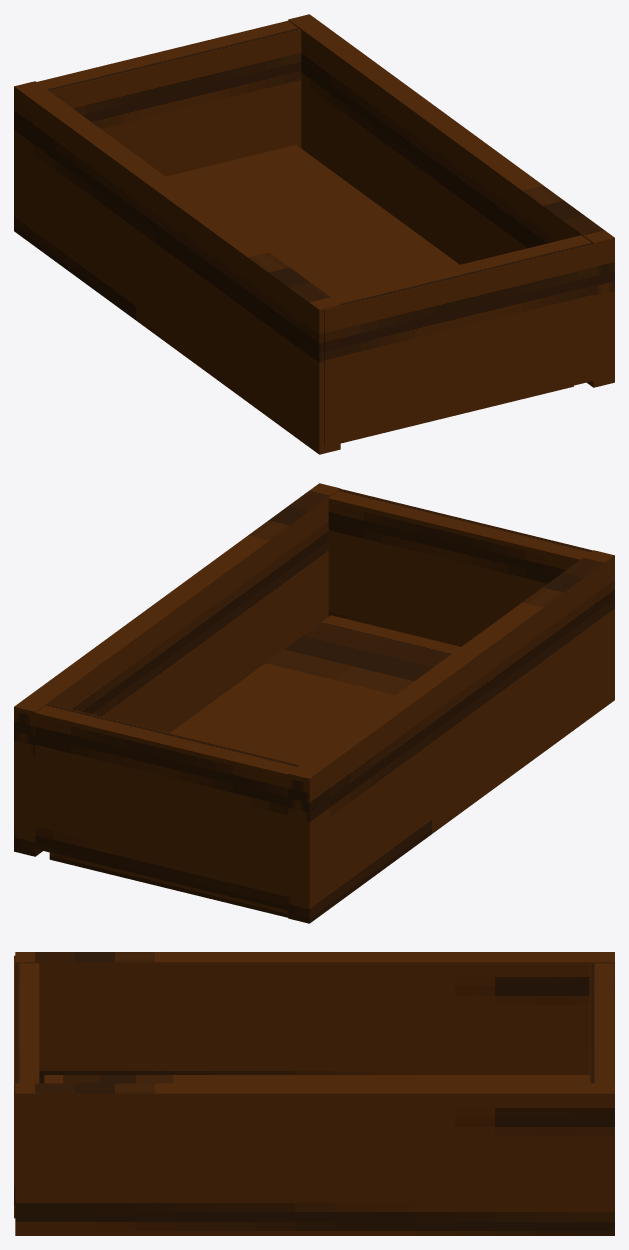
Rendered from ObjectWoodenBox.dae.
The picture shows the model from 3 angles, top to bottom: view 1: azimuth 30°, elevation 25°; view 2: azimuth 150°, elevation 25°; view 3: azimuth 270°, elevation 25°; orthographic projection.
Visible parts, largest first — view 1: Cube.002, Cube.003, Cube.001, Cube.004, Cube; view 2: Cube.002, Cube.004, Cube.001, Cube.003, Cube; view 3: Cube.001, Cube.002, Cube, Cube.003, Cube.004.
Part boxes in pixels (x1,y1,x2,y2): Cube.002: [14, 81, 340, 454]; Cube.003: [324, 235, 594, 446]; Cube.001: [288, 14, 614, 387]; Cube.004: [37, 20, 301, 176]; Cube: [166, 145, 573, 443]; Cube.002: [288, 550, 614, 923]; Cube.004: [35, 703, 299, 910]; Cube.001: [14, 483, 340, 856]; Cube.003: [328, 489, 592, 646]; Cube: [49, 615, 460, 917]; Cube.001: [15, 1083, 614, 1235]; Cube.002: [15, 952, 614, 1083]; Cube: [44, 1075, 589, 1083]; Cube.003: [14, 955, 39, 1218]; Cube.004: [589, 963, 614, 1083].
Bounding box in the file's own units: 1.78 × 3.18 × 0.8797.
1 material, 1 textured.
